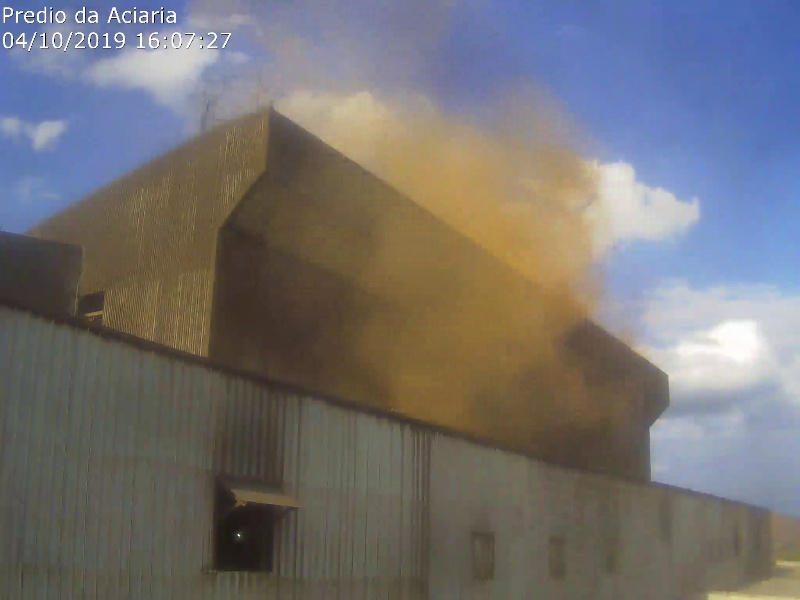bom: (652, 1, 800, 341)
pessimo: (355, 115, 620, 466)
ruim: (229, 4, 569, 117)
